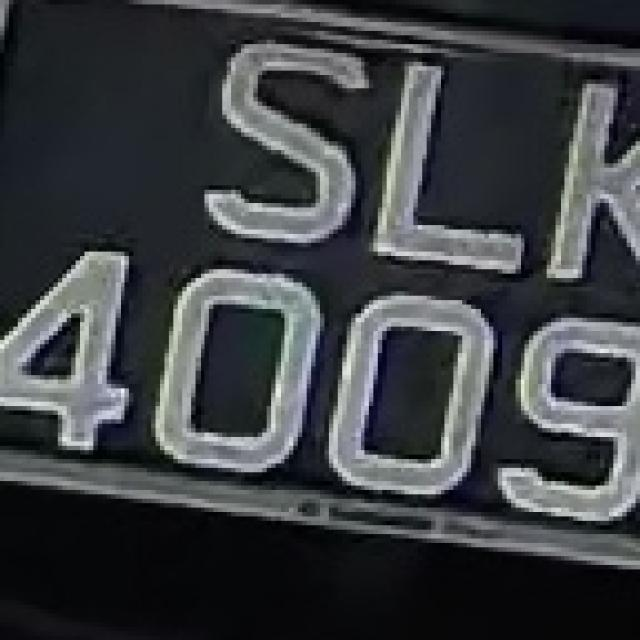0: (142, 238, 338, 499), (311, 265, 498, 512)
4: (9, 203, 142, 481)
9: (4, 2, 4, 4)
K: (524, 44, 640, 309)
L: (356, 36, 524, 292)
S: (187, 31, 369, 247)
